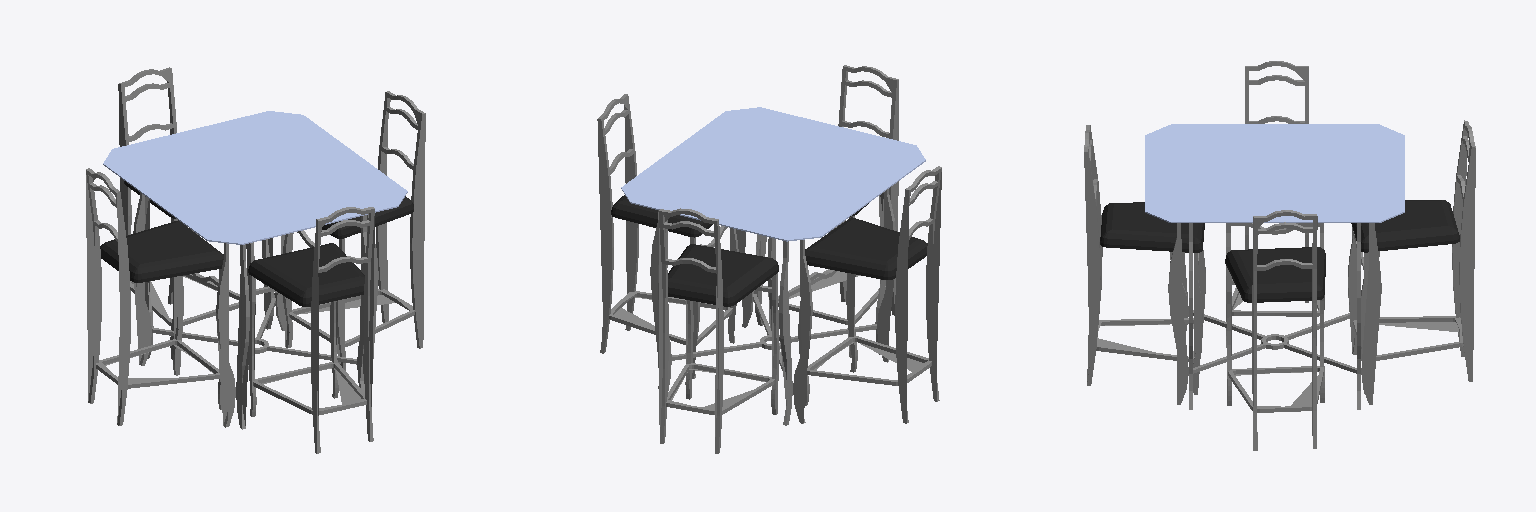
File: table2.obj
The picture shows the model from 3 angles: view 1: azimuth 30°, elevation 25°; view 2: azimuth 150°, elevation 25°; view 3: azimuth 270°, elevation 25°; orthographic projection.
Parts seen in each view (by area): view 1: Mesh4 GlassTop1 GlassTableTop1 GlassBarTable1 Tall_Table_Barstoo, Mesh35 ChairFrameHalf6 Chair_copy_002 Tall_Table_Barstools1 Mode, Mesh39 ChairFrameHalf8 Chair_copy_003 Tall_Table_Barstools1 Mode, Mesh29 ChairFrameHalf3 Chair_copy_001 Tall_Table_Barstools1 Mode, Mesh31 ChairFrameHalf4 Chair_copy_001 Tall_Table_Barstools1 Mode, Mesh1 GlassTableLeg1 GlassBarTable1 Tall_Table_Barstools1 Model, Mesh33 ChairFrameHalf5 Chair_copy_002 Tall_Table_Barstools1 Mode, Mesh32 ChairCushionHalf5 Chair_copy_002 Tall_Table_Barstools1 Mo, Mesh37 ChairFrameHalf7 Chair_copy_003 Tall_Table_Barstools1 Mode, Mesh30 ChairCushionHalf4 Chair_copy_001 Tall_Table_Barstools1 Mo, Mesh11 GlassTableStretch2_2 GlassTableTop1 GlassBarTable1 Tall_T, Mesh9 GlassTableStretch2_1 GlassTableTop1 GlassBarTable1 Tall_Ta (+10 smaller); view 2: Mesh4 GlassTop1 GlassTableTop1 GlassBarTable1 Tall_Table_Barstoo, Mesh33 ChairFrameHalf5 Chair_copy_002 Tall_Table_Barstools1 Mode, Mesh25 ChairFrameHalf1 Chair1 Tall_Table_Barstools1 Model, Mesh37 ChairFrameHalf7 Chair_copy_003 Tall_Table_Barstools1 Mode, Mesh35 ChairFrameHalf6 Chair_copy_002 Tall_Table_Barstools1 Mode, Mesh27 ChairFrameHalf2 Chair1 Tall_Table_Barstools1 Model, Mesh2 GlassTableLeg2 GlassBarTable1 Tall_Table_Barstools1 Model, Mesh34 ChairCushionHalf6 Chair_copy_002 Tall_Table_Barstools1 Mo, Mesh39 ChairFrameHalf8 Chair_copy_003 Tall_Table_Barstools1 Mode, Mesh24 ChairCushionHalf1 Chair1 Tall_Table_Barstools1 Model, Mesh11 GlassTableStretch2_2 GlassTableTop1 GlassBarTable1 Tall_T, Mesh9 GlassTableStretch2_1 GlassTableTop1 GlassBarTable1 Tall_Ta (+10 smaller); view 3: Mesh4 GlassTop1 GlassTableTop1 GlassBarTable1 Tall_Table_Barstoo, Mesh29 ChairFrameHalf3 Chair_copy_001 Tall_Table_Barstools1 Mode, Mesh27 ChairFrameHalf2 Chair1 Tall_Table_Barstools1 Model, Mesh25 ChairFrameHalf1 Chair1 Tall_Table_Barstools1 Model, Mesh39 ChairFrameHalf8 Chair_copy_003 Tall_Table_Barstools1 Mode, Mesh14 GlassTableLeg4 GlassBarTable1 Tall_Table_Barstools1 Model, Mesh28 ChairCushionHalf3 Chair_copy_001 Tall_Table_Barstools1 Mo, Mesh26 ChairCushionHalf2 Chair1 Tall_Table_Barstools1 Model, Mesh37 ChairFrameHalf7 Chair_copy_003 Tall_Table_Barstools1 Mode, Mesh13 GlassTableLeg3 GlassBarTable1 Tall_Table_Barstools1 Model, Mesh11 GlassTableStretch2_2 GlassTableTop1 GlassBarTable1 Tall_T, Mesh9 GlassTableStretch2_1 GlassTableTop1 GlassBarTable1 Tall_Ta (+9 smaller).
Boxes of the visible parts, <box> form: Mesh4 GlassTop1 GlassTableTop1 GlassBarTable1 Tall_Table_Barstoo: <box>129,121,381,232</box>; Mesh35 ChairFrameHalf6 Chair_copy_002 Tall_Table_Barstools1 Mode: <box>86,168,200,403</box>; Mesh39 ChairFrameHalf8 Chair_copy_003 Tall_Table_Barstools1 Mode: <box>319,97,425,370</box>; Mesh29 ChairFrameHalf3 Chair_copy_001 Tall_Table_Barstools1 Mode: <box>294,207,374,441</box>; Mesh31 ChairFrameHalf4 Chair_copy_001 Tall_Table_Barstools1 Mode: <box>248,208,346,453</box>; Mesh1 GlassTableLeg1 GlassBarTable1 Tall_Table_Barstools1 Model: <box>216,243,249,429</box>; Mesh33 ChairFrameHalf5 Chair_copy_002 Tall_Table_Barstools1 Mode: <box>101,175,221,425</box>; Mesh32 ChairCushionHalf5 Chair_copy_002 Tall_Table_Barstools1 Mo: <box>115,237,223,282</box>; Mesh37 ChairFrameHalf7 Chair_copy_003 Tall_Table_Barstools1 Mode: <box>283,91,405,347</box>; Mesh30 ChairCushionHalf4 Chair_copy_001 Tall_Table_Barstools1 Mo: <box>248,252,338,306</box>; Mesh11 GlassTableStretch2_2 GlassTableTop1 GlassBarTable1 Tall_T: <box>104,159,228,239</box>; Mesh9 GlassTableStretch2_1 GlassTableTop1 GlassBarTable1 Tall_Ta: <box>281,116,405,195</box>; Mesh4 GlassTop1 GlassTableTop1 GlassBarTable1 Tall_Table_Barstoo: <box>646,118,899,229</box>; Mesh33 ChairFrameHalf5 Chair_copy_002 Tall_Table_Barstools1 Mode: <box>828,166,941,401</box>; Mesh25 ChairFrameHalf1 Chair1 Tall_Table_Barstools1 Model: <box>688,209,778,453</box>; Mesh37 ChairFrameHalf7 Chair_copy_003 Tall_Table_Barstools1 Mode: <box>597,101,714,378</box>; Mesh35 ChairFrameHalf6 Chair_copy_002 Tall_Table_Barstools1 Mode: <box>798,173,925,423</box>; Mesh27 ChairFrameHalf2 Chair1 Tall_Table_Barstools1 Model: <box>658,208,731,443</box>; Mesh2 GlassTableLeg2 GlassBarTable1 Tall_Table_Barstools1 Model: <box>779,240,812,425</box>; Mesh34 ChairCushionHalf6 Chair_copy_002 Tall_Table_Barstools1 Mo: <box>805,233,911,279</box>; Mesh39 ChairFrameHalf8 Chair_copy_003 Tall_Table_Barstools1 Mode: <box>612,94,738,343</box>; Mesh24 ChairCushionHalf1 Chair1 Tall_Table_Barstools1 Model: <box>694,251,778,306</box>; Mesh11 GlassTableStretch2_2 GlassTableTop1 GlassBarTable1 Tall_T: <box>799,155,924,235</box>; Mesh9 GlassTableStretch2_1 GlassTableTop1 GlassBarTable1 Tall_Ta: <box>623,112,747,191</box>; Mesh4 GlassTop1 GlassTableTop1 GlassBarTable1 Tall_Table_Barstoo: <box>1173,136,1376,209</box>; Mesh29 ChairFrameHalf3 Chair_copy_001 Tall_Table_Barstools1 Mode: <box>1084,133,1202,394</box>; Mesh27 ChairFrameHalf2 Chair1 Tall_Table_Barstools1 Model: <box>1361,129,1475,393</box>; Mesh25 ChairFrameHalf1 Chair1 Tall_Table_Barstools1 Model: <box>1348,120,1471,356</box>; Mesh39 ChairFrameHalf8 Chair_copy_003 Tall_Table_Barstools1 Mode: <box>1227,210,1285,450</box>; Mesh14 GlassTableLeg4 GlassBarTable1 Tall_Table_Barstools1 Model: <box>1357,223,1381,409</box>; Mesh28 ChairCushionHalf3 Chair_copy_001 Tall_Table_Barstools1 Mo: <box>1100,217,1203,252</box>; Mesh26 ChairCushionHalf2 Chair1 Tall_Table_Barstools1 Model: <box>1354,213,1459,252</box>; Mesh37 ChairFrameHalf7 Chair_copy_003 Tall_Table_Barstools1 Mode: <box>1276,210,1324,448</box>; Mesh13 GlassTableLeg3 GlassBarTable1 Tall_Table_Barstools1 Model: <box>1168,223,1192,409</box>; Mesh11 GlassTableStretch2_2 GlassTableTop1 GlassBarTable1 Tall_T: <box>1173,124,1376,135</box>; Mesh9 GlassTableStretch2_1 GlassTableTop1 GlassBarTable1 Tall_Ta: <box>1173,210,1376,222</box>.
Size of the model in its own units: 1.6 by 1.17 by 1.74.